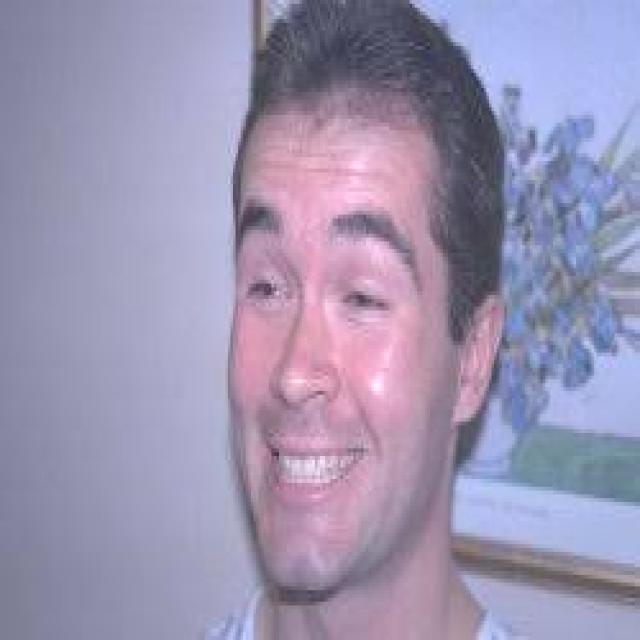normal_face: (231, 59, 498, 610)
